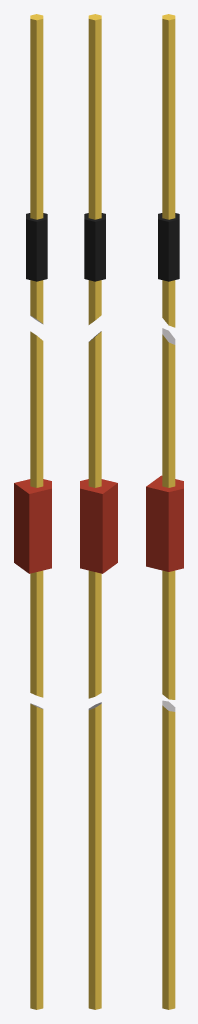
File: Cot1_DEST.fbx
3 views of the same model, side by side, from view 1: azimuth 30°, elevation 25°; view 2: azimuth 150°, elevation 25°; view 3: azimuth 330°, elevation 25° (orthographic).
Parts seen in each view (by area): view 1: cot.002, cot.001, cot; view 2: cot.002, cot.001, cot; view 3: cot.002, cot.001, cot.
Part boxes in pixels (x1,y1,x2,y2): cot.002: (14,331,51,697); cot.001: (26,14,47,324); cot: (30,703,43,1009); cot.002: (80,331,117,698); cot.001: (84,14,105,324); cot: (88,702,101,1009); cot.002: (146,328,183,699); cot.001: (158,14,179,327); cot: (162,700,175,1009).
Bounding box in the file's own units: 162 × 5050 × 140.
